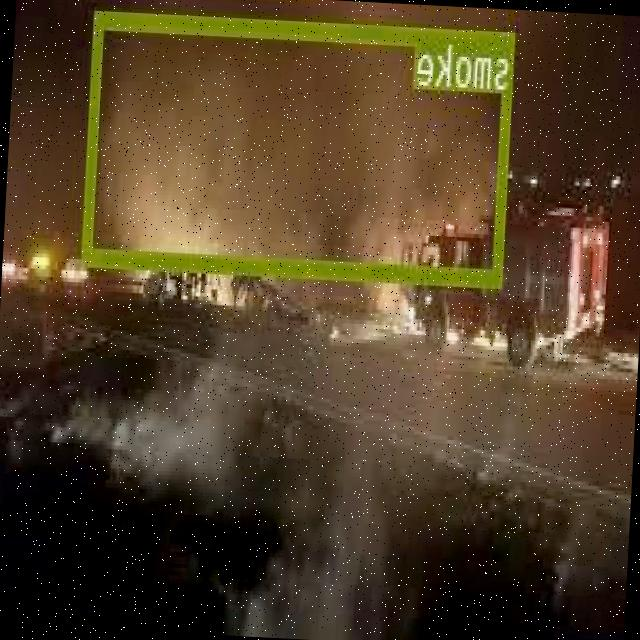smoke: (84, 7, 516, 284)
